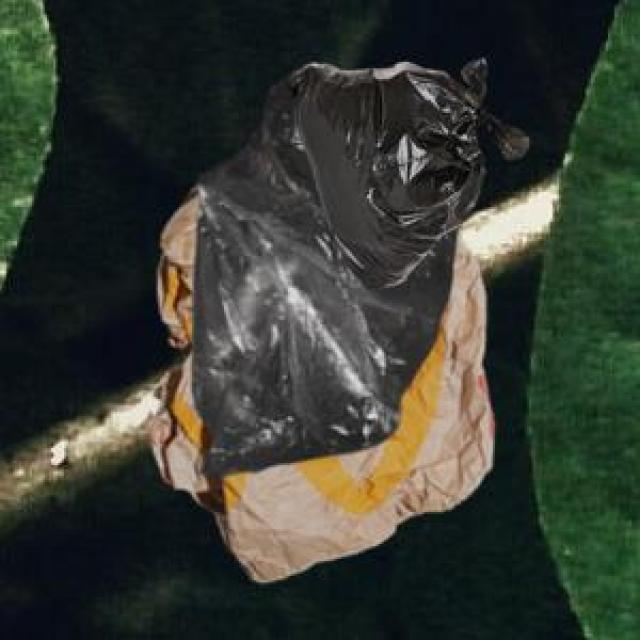miscellaneous trash: (284, 56, 525, 284)
paper: (147, 184, 489, 578)
